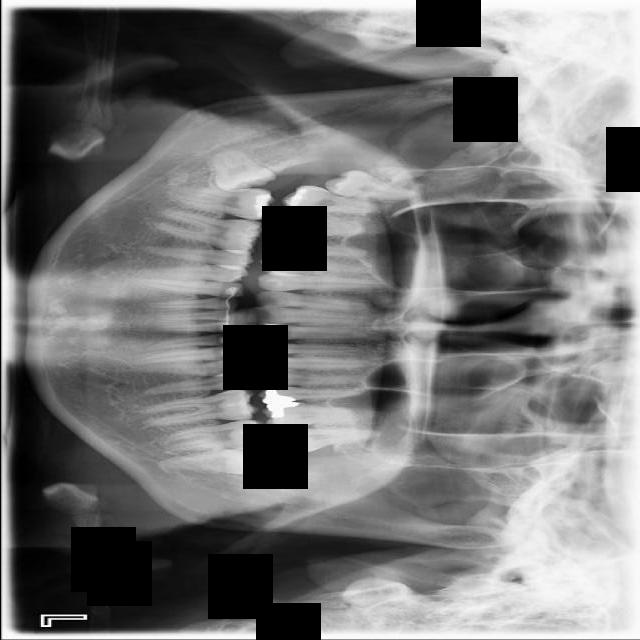3M ESPE Implant: (322, 165, 420, 208)
52: (279, 174, 330, 223), (223, 184, 275, 223), (209, 386, 259, 426), (218, 419, 267, 449), (260, 402, 304, 429), (245, 323, 297, 342), (256, 384, 298, 405)
73: (26, 618, 36, 626)
BioHorizons Implant: (275, 427, 384, 455)
Biomet 3i Implant: (156, 447, 256, 475)
Blue Sky Bio Implant: (160, 418, 266, 451)
Caries: (280, 184, 390, 217)
Implant: (165, 185, 275, 221)
Keystone Dental Implant: (206, 139, 277, 198)
